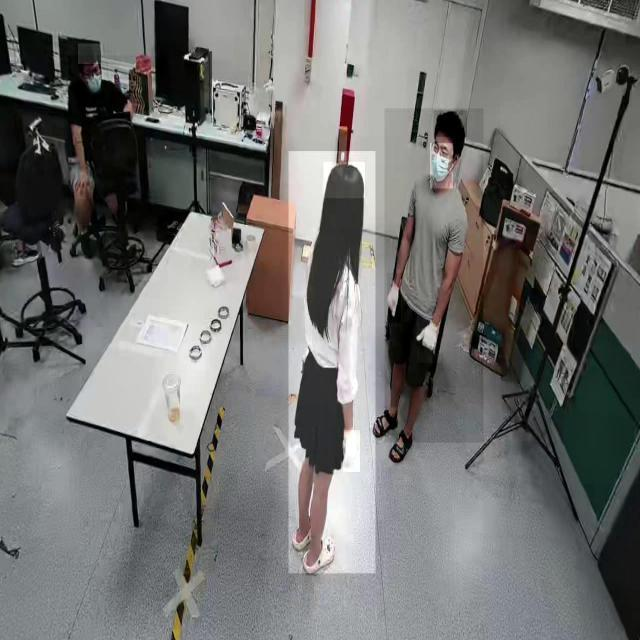gloves: (416, 313, 442, 363), (386, 272, 402, 324), (343, 430, 361, 473)
